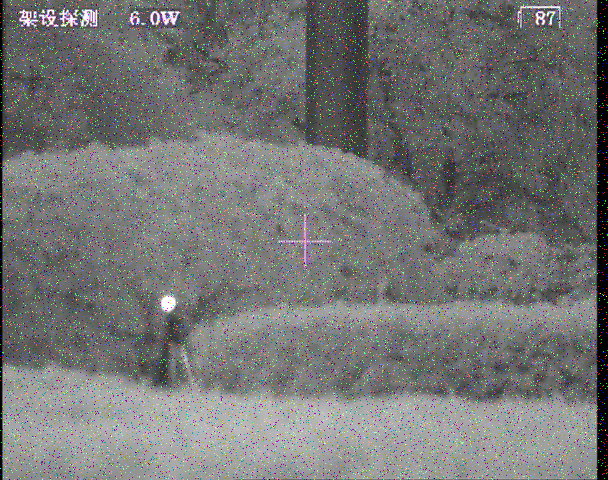my: (160, 295, 176, 313)
